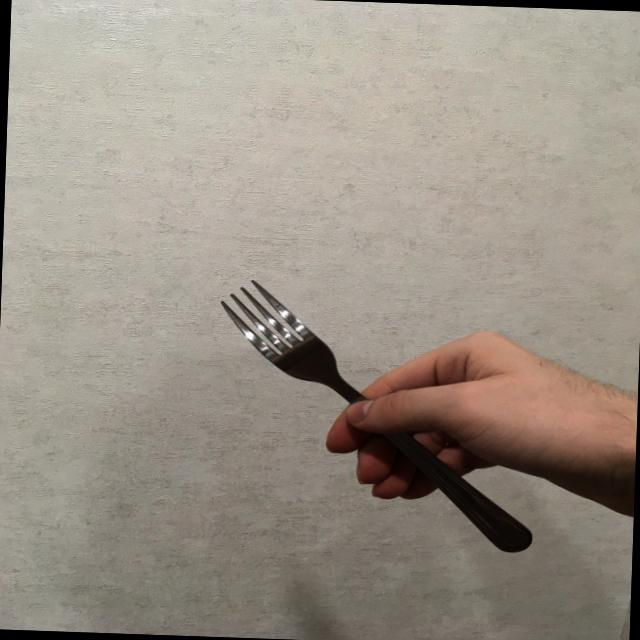fork: (210, 278, 544, 554)
